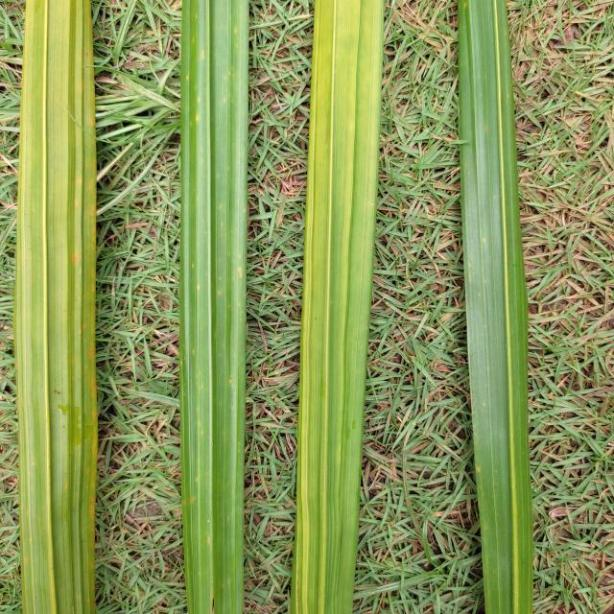nitrogen: (285, 0, 385, 614), (456, 0, 536, 614), (19, 0, 98, 614), (178, 0, 252, 614)
